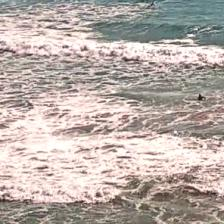surfer: (197, 94, 206, 100), (147, 2, 155, 8), (139, 0, 144, 2)
